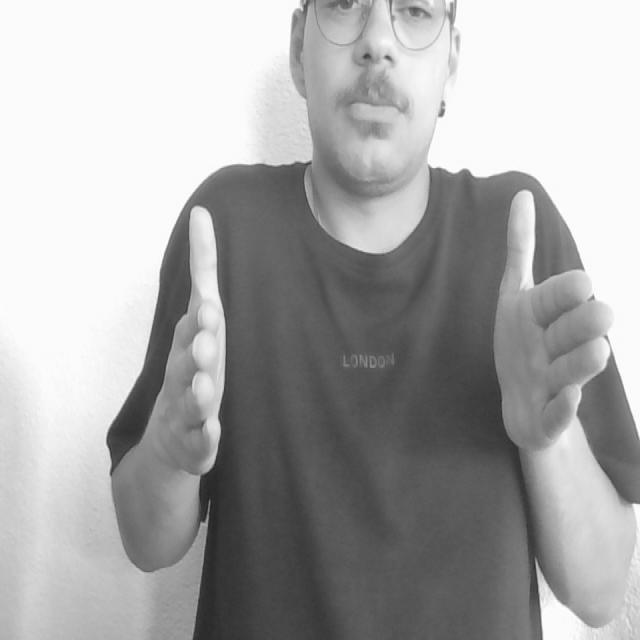Nasil: (148, 170, 617, 477)
